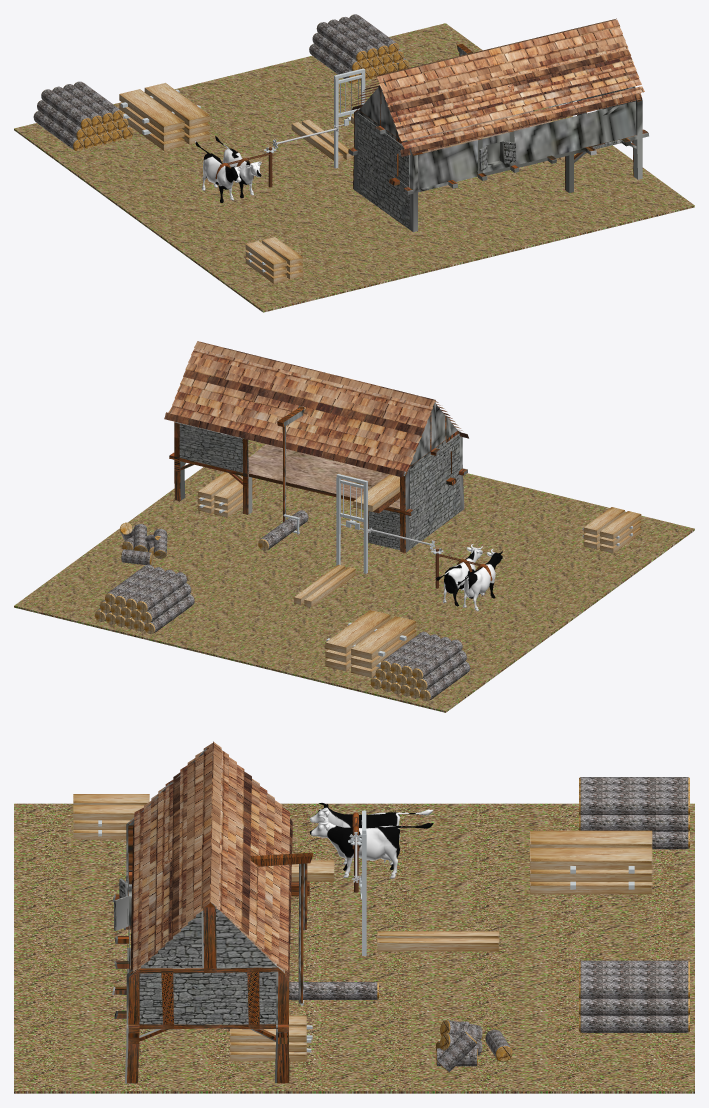
Rendered from Sawmill-Human.fbx.
The picture shows the model from 3 angles, top to bottom: view 1: azimuth 30°, elevation 25°; view 2: azimuth 150°, elevation 25°; view 3: azimuth 270°, elevation 25°; orthographic projection. The views are drawn at different scales.
Parts seen in each view (by area): view 1: Suelo, Terrat, Casa Part0, Listones 2, Troncos.001, Troncos, Listones 2.001, VACAS, Casa Part1, Sierra, EstructuraSierra; view 2: Suelo, Terrat, Casa Part0, Listones 2, Troncos, Troncos.001, Casa Part1, VACAS, Listones 2.001, Listones 2.003, EstructuraSierra, Listones 2.002 (+1 smaller); view 3: Suelo, Terrat, Casa Part0, Listones 2, Casa Part1, Troncos, Troncos.001, VACAS, Listones 2.001, Listones 2.003, Tronco, Tronco.002 (+3 smaller).
Part boxes in pixels (x1,y1,x2,y2): Suelo: (14, 23, 694, 312); Terrat: (350, 18, 644, 156); Casa Part0: (348, 29, 648, 232); Listones 2: (119, 83, 353, 161); Troncos.001: (33, 81, 133, 150); Troncos: (309, 14, 408, 83); Listones 2.001: (245, 237, 303, 283); VACAS: (195, 136, 268, 202); Casa Part1: (348, 43, 647, 191); Sierra: (334, 73, 362, 168); EstructuraSierra: (334, 68, 365, 168); Suelo: (14, 438, 694, 712); Terrat: (164, 341, 468, 477); Casa Part0: (175, 402, 467, 552); Listones 2: (294, 564, 416, 677); Troncos: (95, 564, 194, 633); Troncos.001: (370, 631, 470, 701); Casa Part1: (169, 406, 466, 552); VACAS: (436, 544, 502, 611); Listones 2.001: (583, 507, 641, 553); Listones 2.003: (198, 472, 255, 517); EstructuraSierra: (336, 474, 367, 573); Listones 2.002: (353, 470, 400, 511); Suelo: (14, 803, 694, 1093); Terrat: (130, 741, 292, 982); Casa Part0: (112, 748, 307, 1083); Listones 2: (377, 830, 652, 951); Casa Part1: (114, 747, 312, 1083); Troncos: (579, 960, 689, 1032); Troncos.001: (579, 777, 689, 849); VACAS: (309, 803, 433, 878); Listones 2.001: (73, 794, 149, 839); Listones 2.003: (230, 1015, 306, 1061); Tronco: (289, 982, 378, 999); Tronco.002: (436, 1031, 477, 1071).
Bounding box in the file's own units: 1454 × 445 × 1454.
10 materials, 8 textured.
